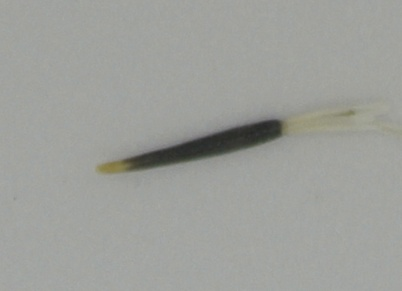เมล็ดดีเรียวยาว: (88, 99, 402, 181)
